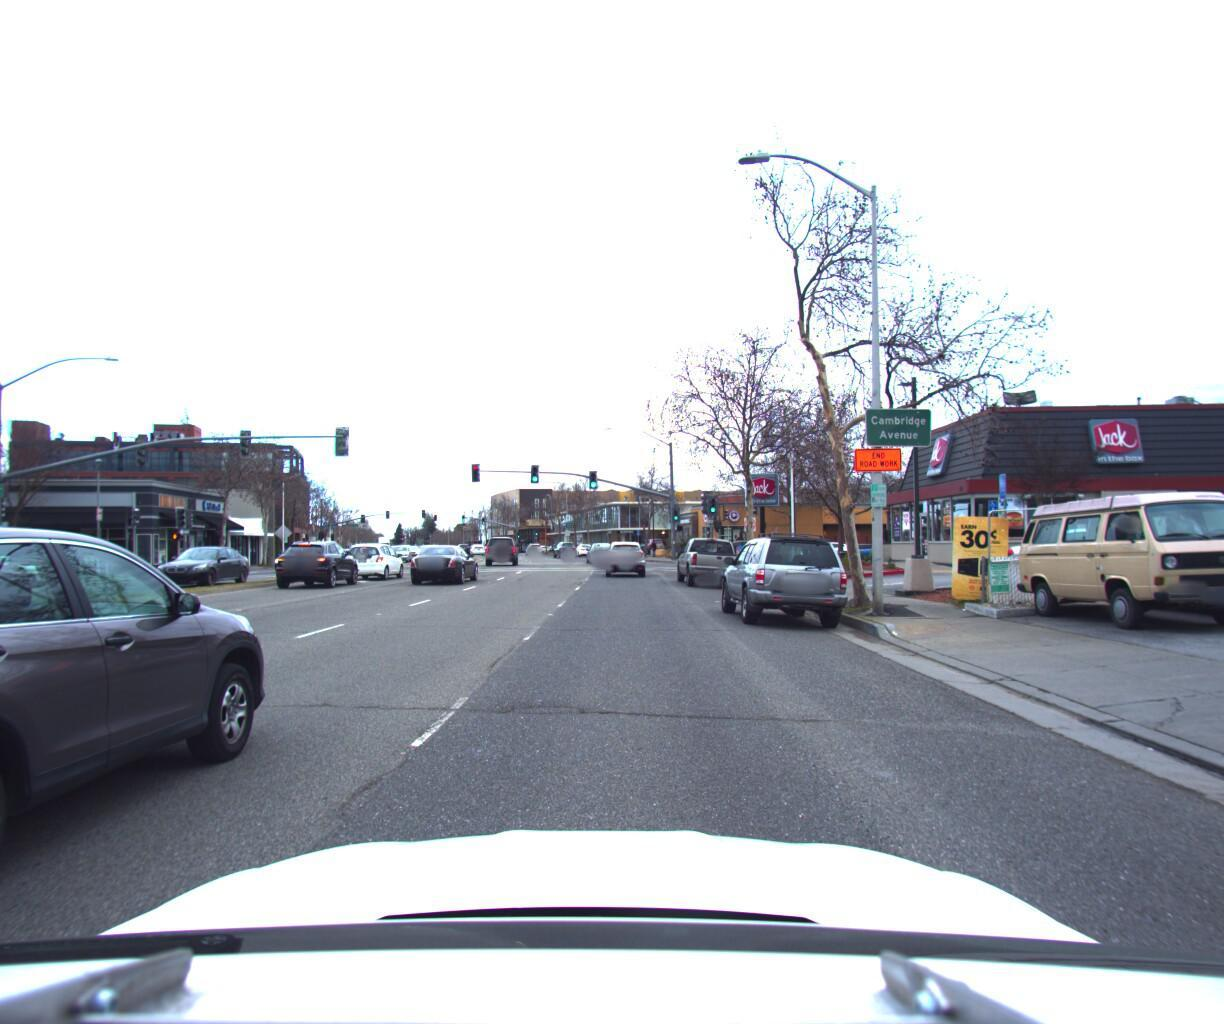car: (0, 507, 299, 1024), (1003, 475, 1224, 627), (987, 513, 1222, 577), (713, 520, 853, 624), (1111, 520, 1224, 615), (141, 537, 257, 588), (266, 530, 370, 581), (675, 527, 745, 581), (400, 536, 486, 580), (336, 532, 412, 573), (602, 532, 645, 570), (484, 525, 521, 557), (582, 534, 614, 561), (414, 534, 446, 556), (1217, 530, 1224, 610), (550, 531, 577, 550)
